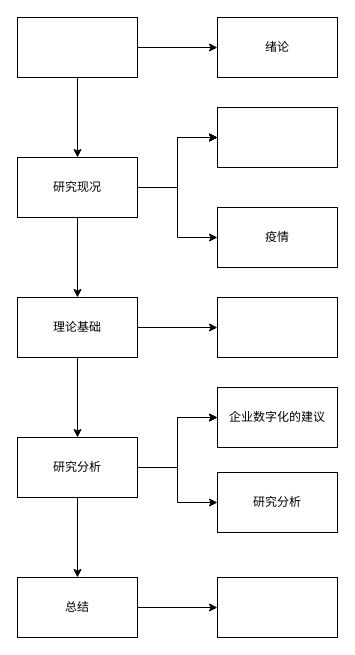
Some shapes in this 355 by 655 pixel diagram are drawn without their labels. The centre of each missing label's shape, as x and y in pixels:
企业的变动: (x=277, y=137)
提出课题: (x=77, y=47)
数字化数据变动: (x=277, y=327)
研究结论以及预测方向: (x=277, y=607)
